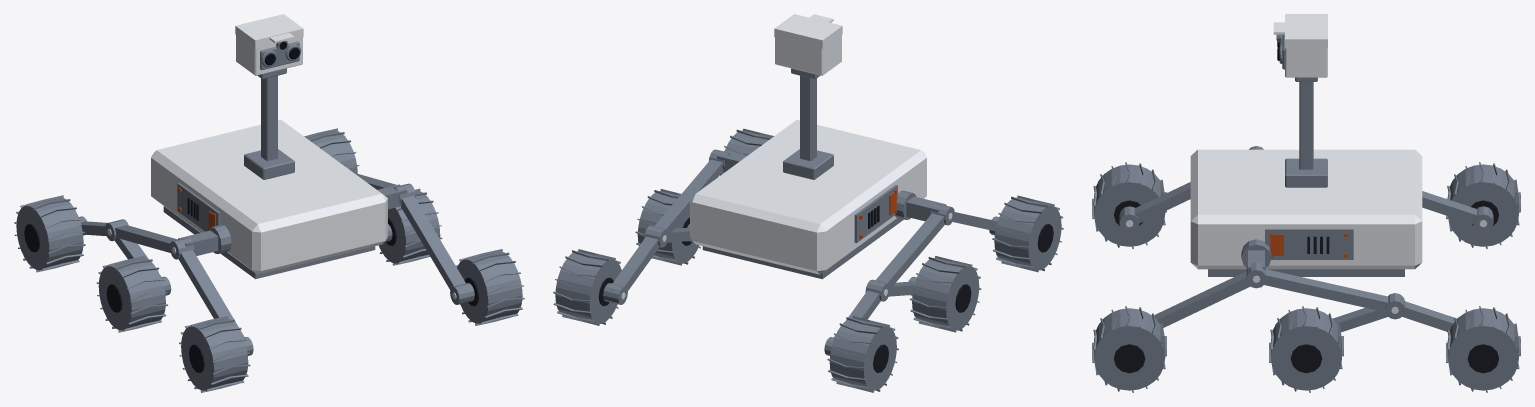
File: rover_base.glb
The picture shows the model from 3 angles, left to right: view 1: azimuth 30°, elevation 25°; view 2: azimuth 150°, elevation 25°; view 3: azimuth 270°, elevation 25°; orthographic projection. The views are drawn at different scales.
Parts seen in each view (by area): view 1: SM_Chassis, SM_Mast, SM_Arm_Bogie_L, SM_Wheel_ML, SM_Wheel_RL, SM_Wheel_FL, SM_Wheel_FR, SM_Arm_Bogie_R, SM_Wheel_MR, SM_Wheel_RR; view 2: SM_Chassis, SM_Mast, SM_Arm_Bogie_L, SM_Wheel_FL, SM_Wheel_ML, SM_Wheel_RL, SM_Arm_Bogie_R, SM_Wheel_RR, SM_Wheel_MR, SM_Wheel_FR; view 3: SM_Chassis, SM_Arm_Bogie_R, SM_Mast, SM_Wheel_MR, SM_Wheel_RR, SM_Wheel_FR, SM_Wheel_RL, SM_Wheel_FL, SM_Arm_Bogie_L.
Boxes of the visible parts, <box> form: SM_Chassis: <box>151,120,387,279</box>; SM_Mast: <box>235,14,303,179</box>; SM_Arm_Bogie_L: <box>79,216,253,355</box>; SM_Wheel_ML: <box>96,255,168,332</box>; SM_Wheel_RL: <box>14,195,85,272</box>; SM_Wheel_FL: <box>179,316,250,392</box>; SM_Wheel_FR: <box>455,249,524,325</box>; SM_Arm_Bogie_R: <box>344,165,474,304</box>; SM_Wheel_MR: <box>378,188,442,265</box>; SM_Wheel_RR: <box>304,128,359,173</box>; SM_Chassis: <box>690,120,926,279</box>; SM_Mast: <box>774,14,842,179</box>; SM_Arm_Bogie_L: <box>824,196,998,355</box>; SM_Wheel_FL: <box>992,195,1063,272</box>; SM_Wheel_ML: <box>910,256,981,332</box>; SM_Wheel_RL: <box>827,316,898,392</box>; SM_Arm_Bogie_R: <box>603,149,747,304</box>; SM_Wheel_RR: <box>553,249,621,325</box>; SM_Wheel_MR: <box>635,189,700,265</box>; SM_Wheel_FR: <box>720,128,773,175</box>; SM_Chassis: <box>1190,149,1422,276</box>; SM_Arm_Bogie_R: <box>1154,250,1457,332</box>; SM_Mast: <box>1273,14,1327,187</box>; SM_Wheel_MR: <box>1269,306,1343,392</box>; SM_Wheel_RR: <box>1446,306,1520,392</box>; SM_Wheel_FR: <box>1092,306,1166,392</box>; SM_Wheel_RL: <box>1446,162,1520,248</box>; SM_Wheel_FL: <box>1092,162,1166,248</box>; SM_Arm_Bogie_L: <box>1119,146,1493,232</box>.
Size of the model in its own units: 2.7 by 2.2 by 3.
